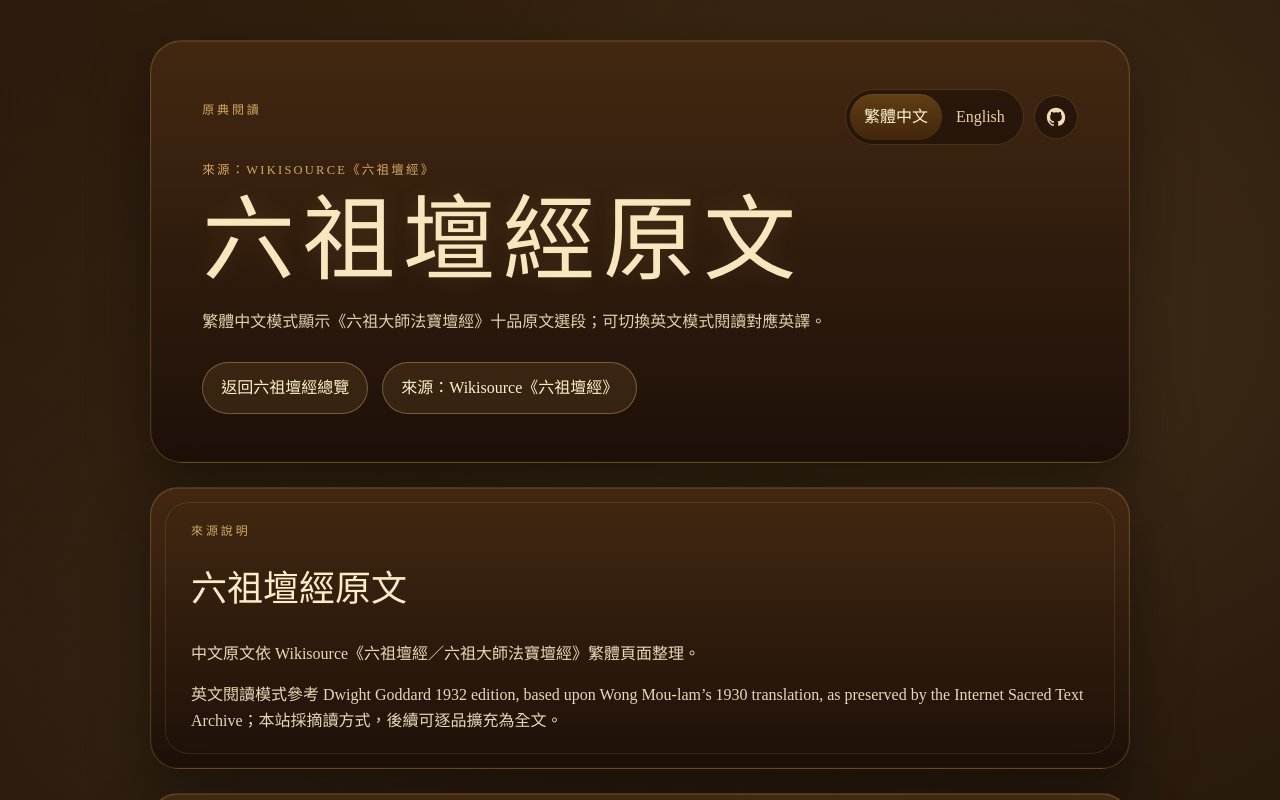
Test case: App › shows the English Platform Sutra text page when English is selected
Click the button "English" at (980, 117), box top-left (942, 94), bottom-right (1019, 140)
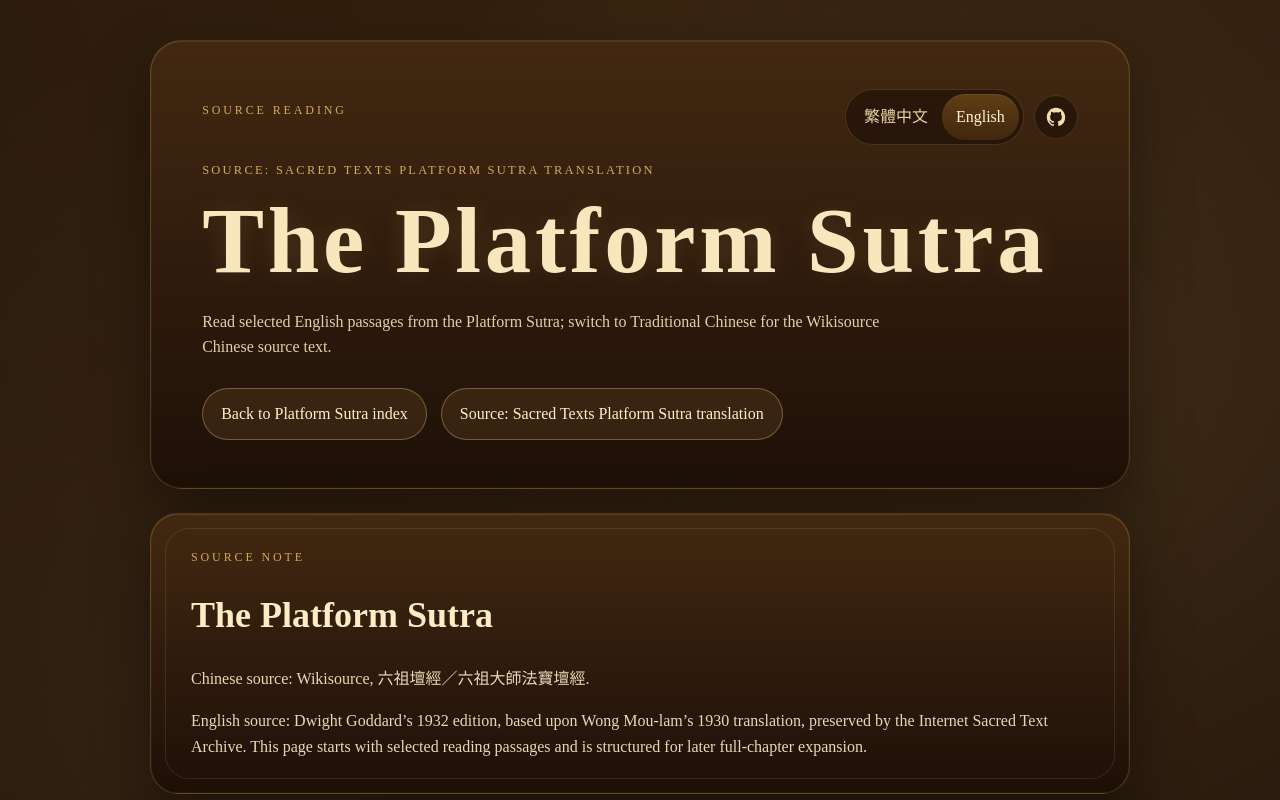
expect the heading "The Platform Sutra" below "Source reading" is shown: met, box top-left (202, 191), bottom-right (1078, 291)
expect the button "Back to Platform Sutra index" is shown: met, box top-left (202, 388), bottom-right (427, 440)
